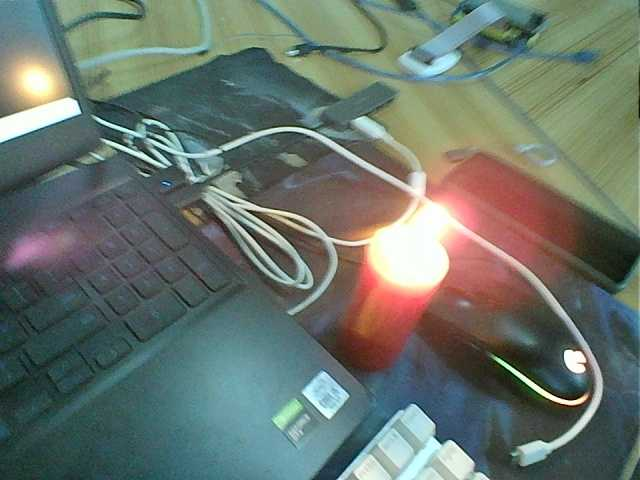candle: (327, 237, 449, 368)
fire: (380, 191, 458, 276), (14, 64, 61, 100)
